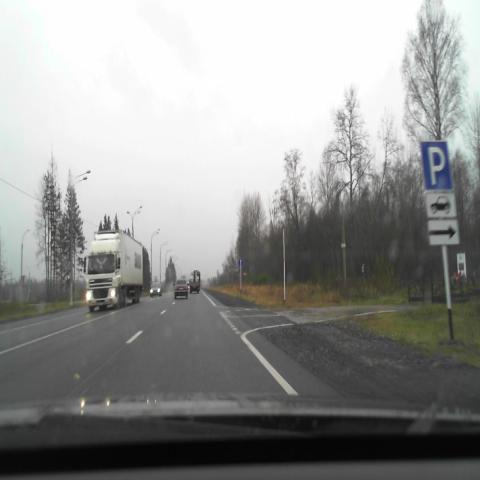6_4: (420, 140, 452, 190)
8_3_1: (428, 220, 459, 245)
8_4_3: (425, 193, 456, 218)
